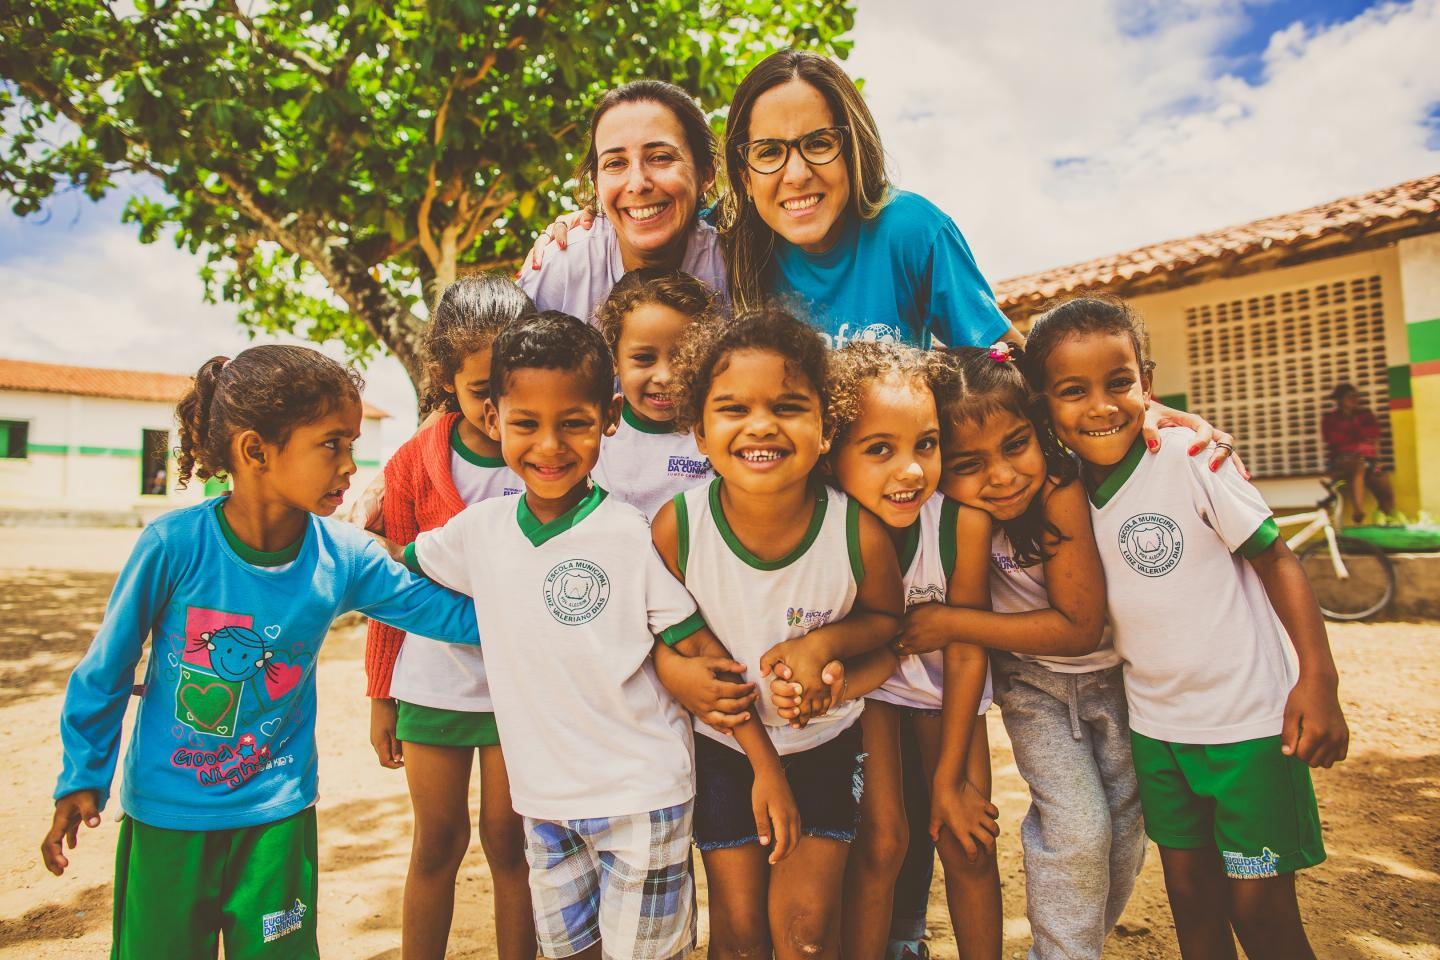human: (1006, 292, 1396, 960), (35, 334, 416, 960), (410, 310, 774, 960), (349, 266, 567, 960), (920, 337, 1154, 960), (652, 309, 869, 960), (811, 340, 1014, 960), (710, 37, 1044, 371), (482, 72, 759, 327)
